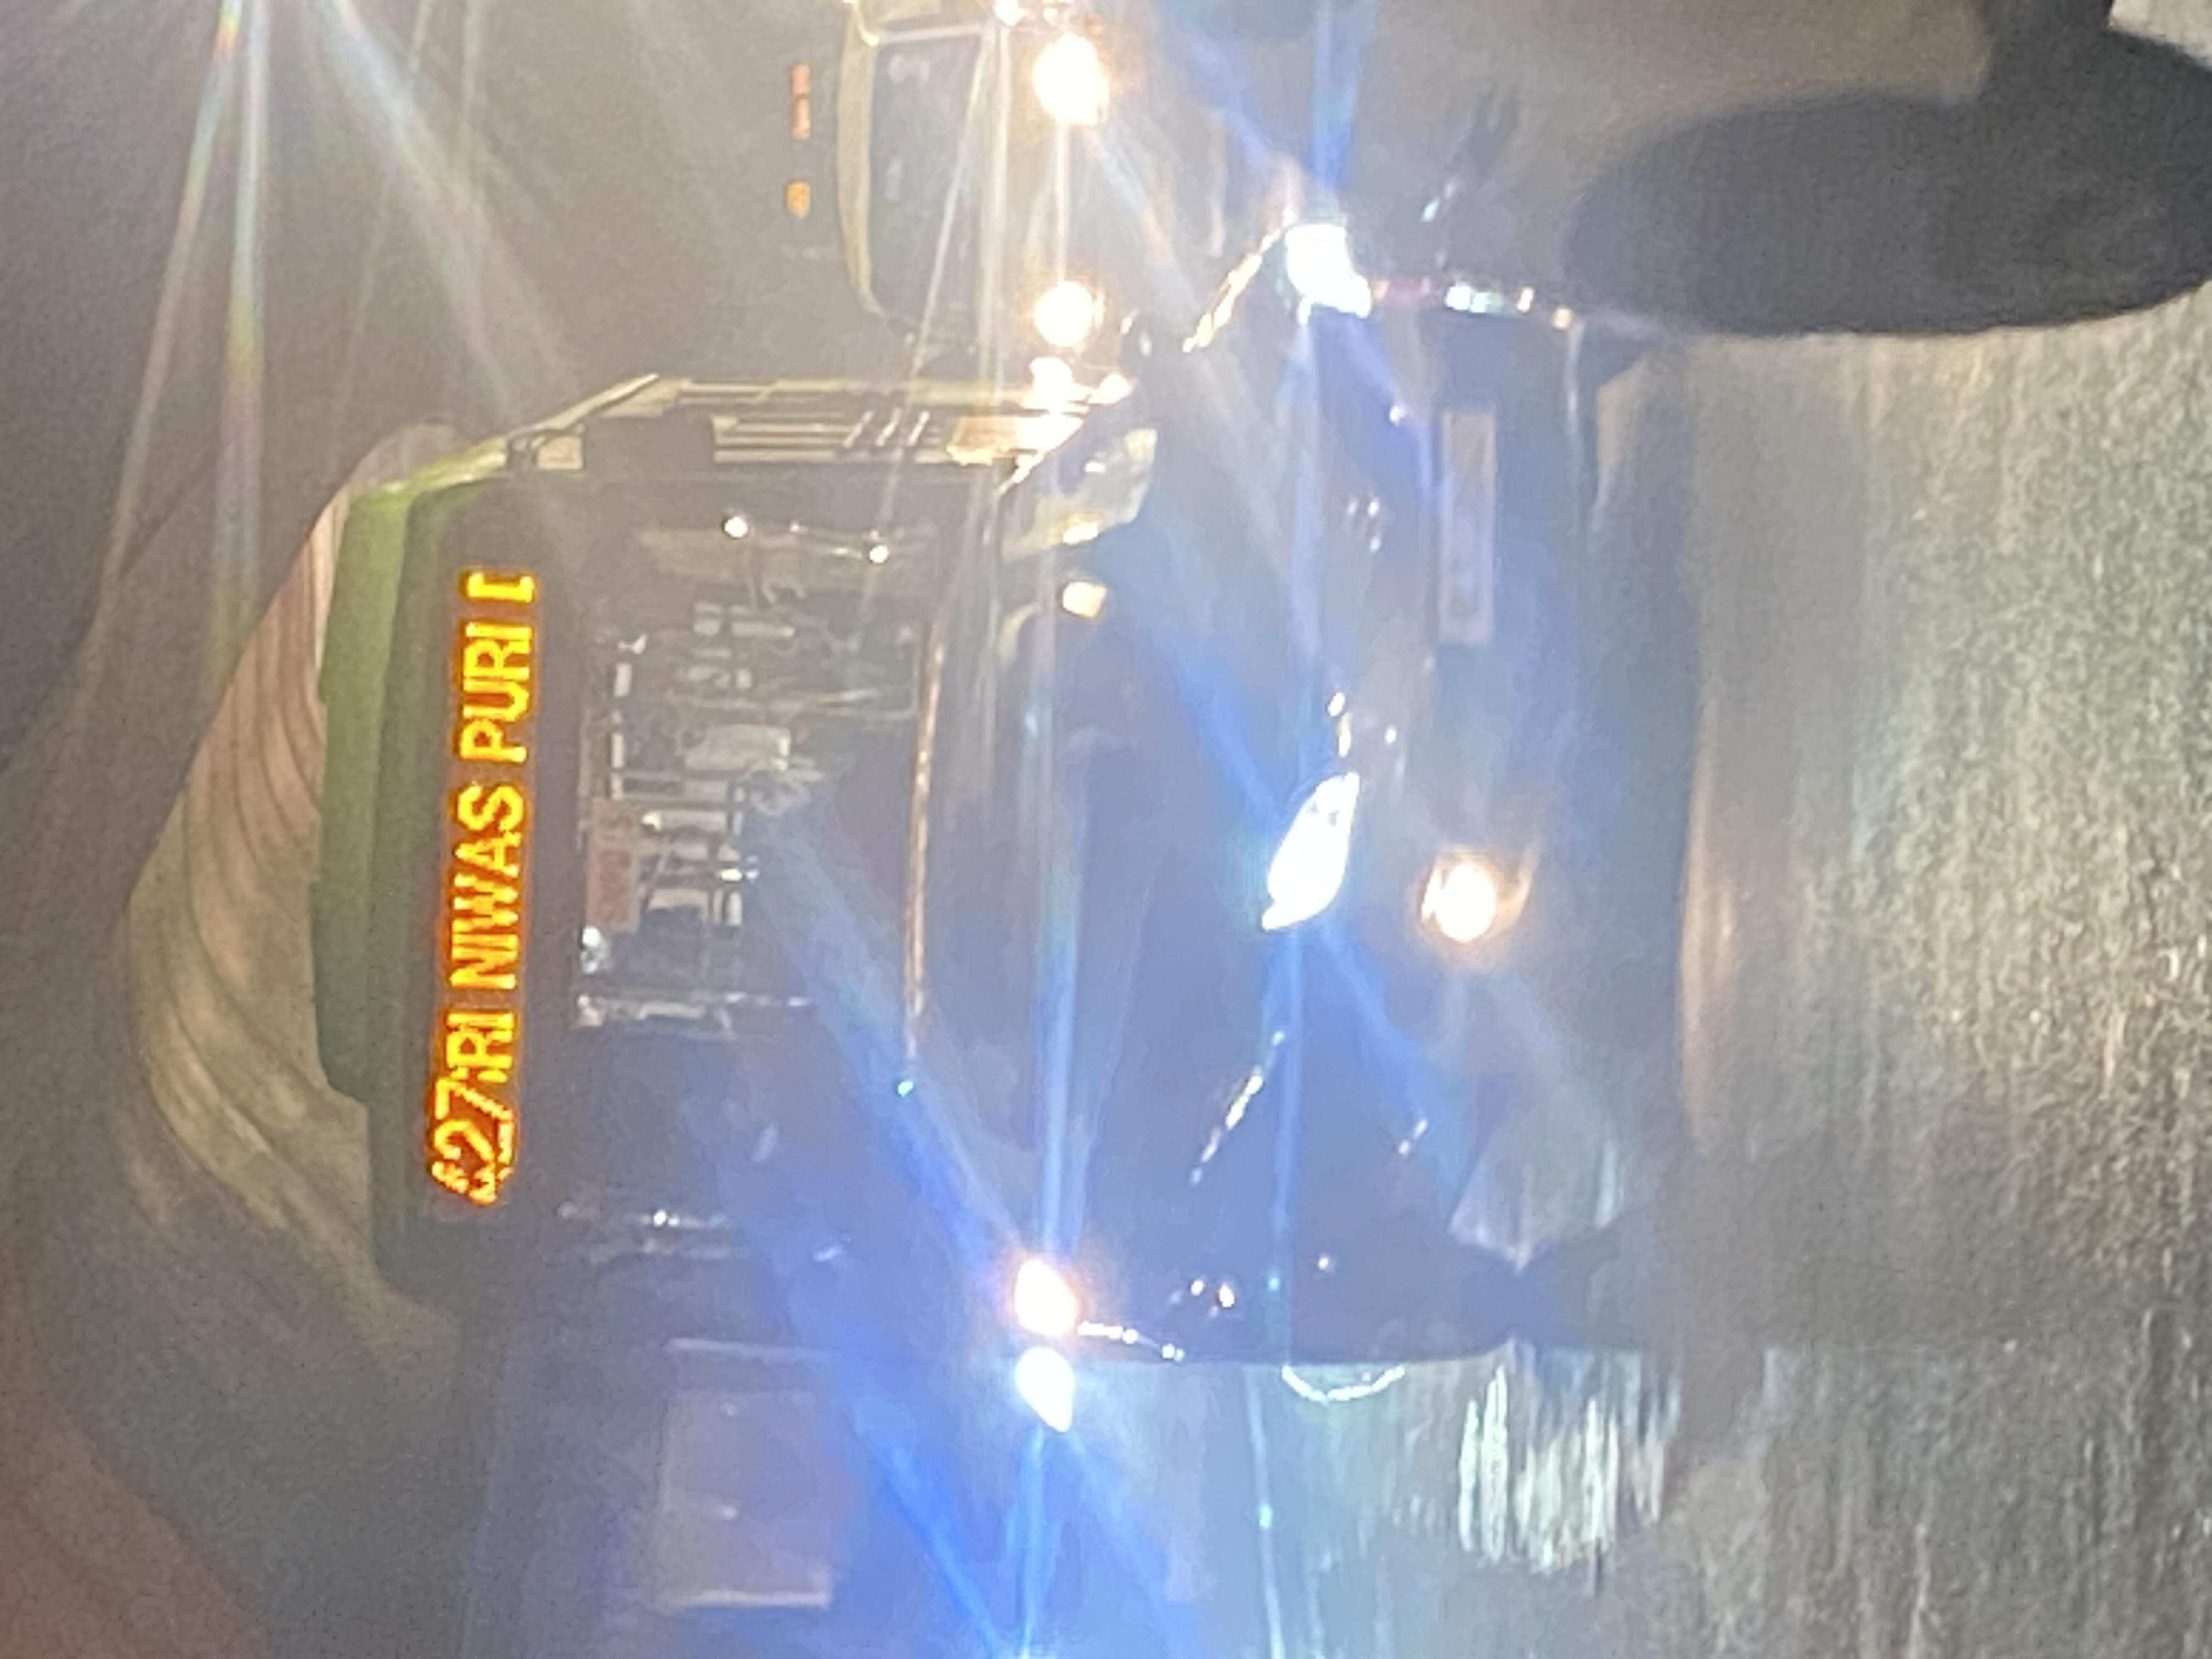Bus: (296, 450, 1087, 1284)
Display Board: (383, 526, 571, 1223)
